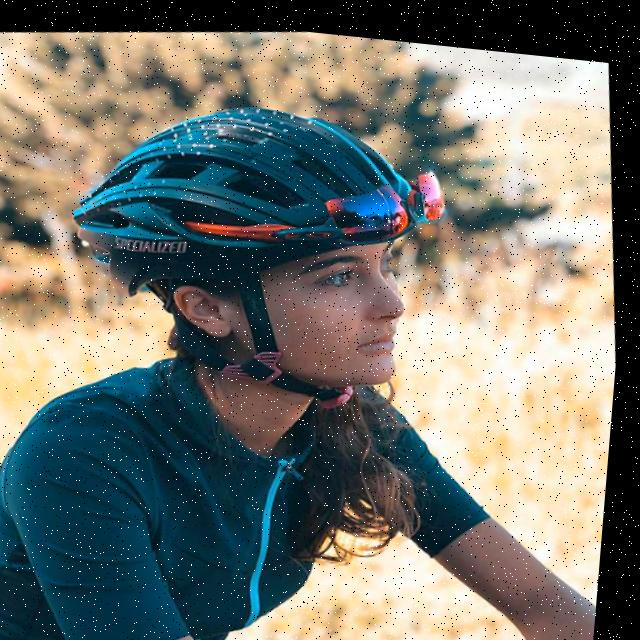illegal_helmet: (48, 56, 482, 449)
